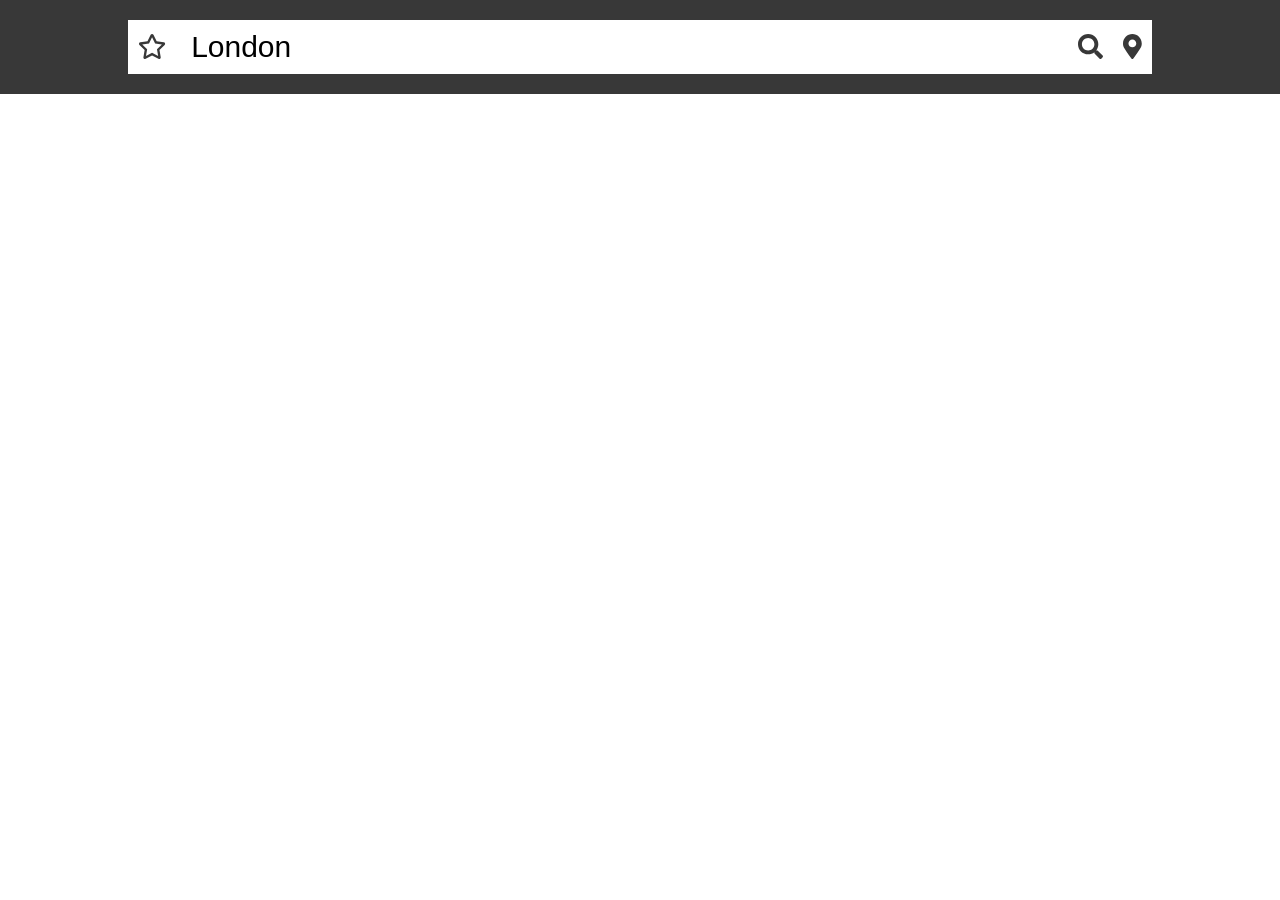
Test: LocationList › the filtered list › shows the full filtered list when there are 20 or fewer items on the list
This screenshot has width=1280, height=900.
Replace the text in the field with placeholder "Enter location name" with "l" at (622, 47), box [176,20,1068,74]
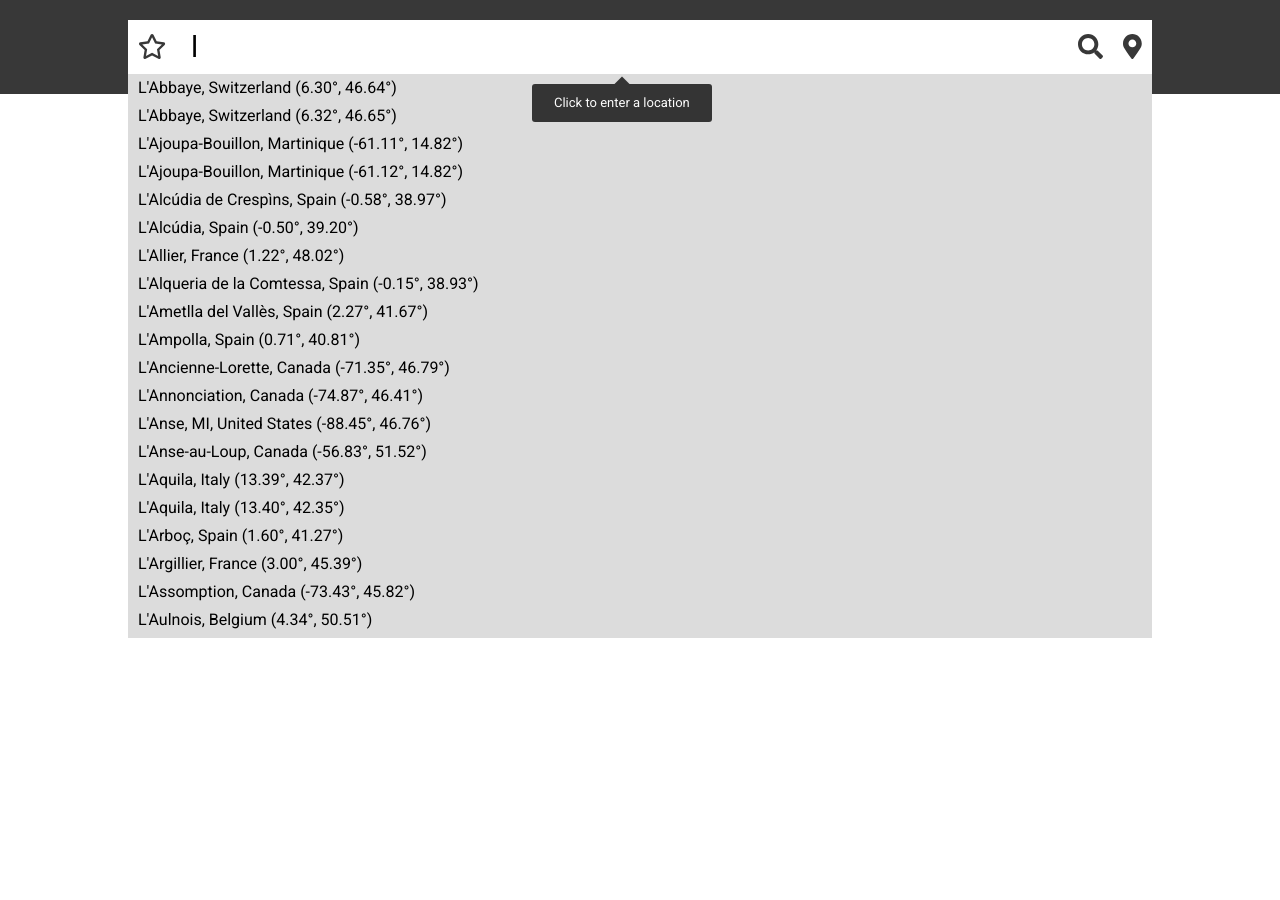
Now the link "L'Abbaye, Switzerland (6.30°, 46.64°)" is shown, box [138,78,397,97]
Now the link "L'Aulnois, Belgium (4.34°, 50.51°)" is shown, box [138,610,372,629]
